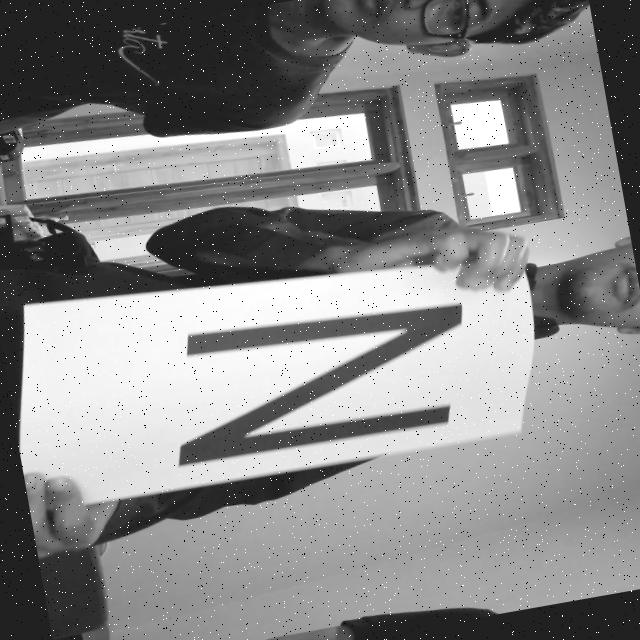n: (135, 267, 512, 482)
